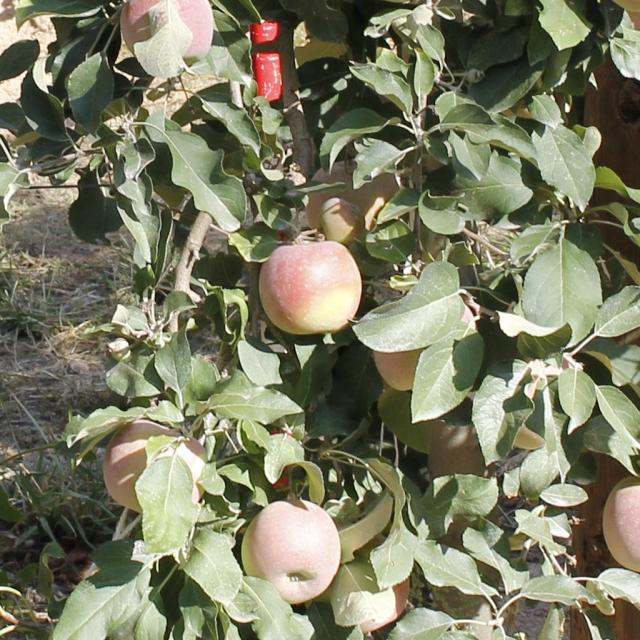apple: (103, 420, 205, 520), (242, 501, 340, 604), (259, 240, 362, 333), (121, 0, 213, 76), (601, 478, 639, 571), (373, 350, 419, 390)
